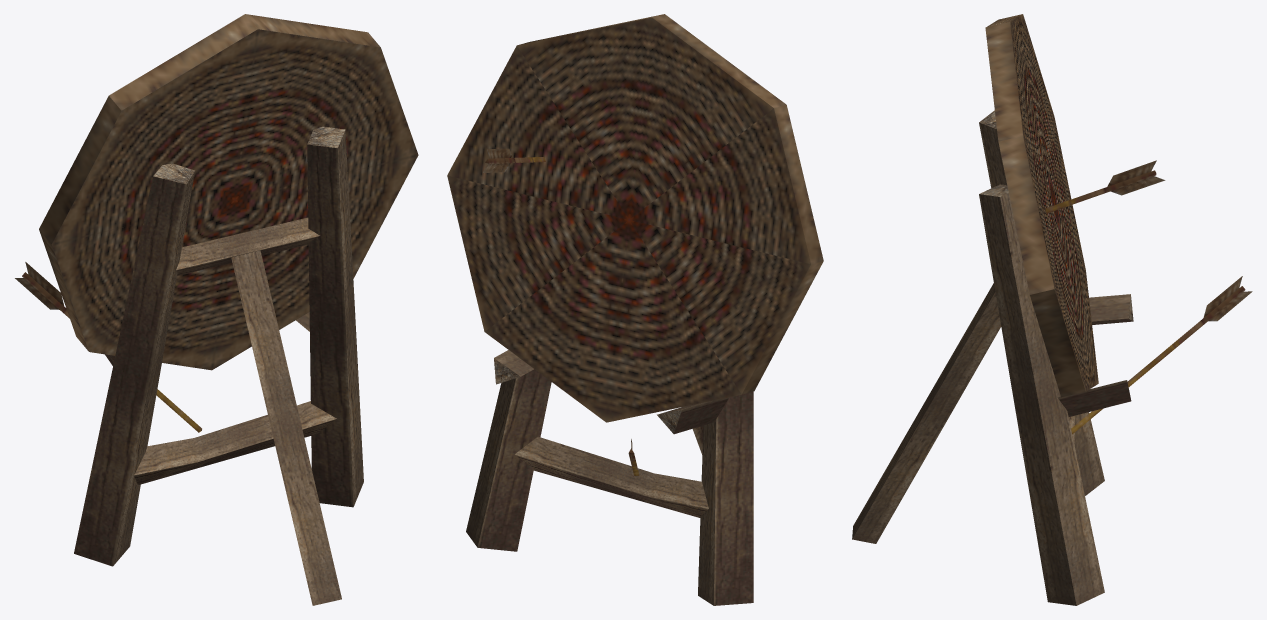
Rendered from SC_tamalagebi_38.FBX.
The picture shows the model from 3 angles, left to right: view 1: azimuth 30°, elevation 25°; view 2: azimuth 150°, elevation 25°; view 3: azimuth 270°, elevation 25°; orthographic projection. The views are drawn at different scales.
Parts seen in each view (by area): view 1: SC_tamalagebi_38; view 2: SC_tamalagebi_38; view 3: SC_tamalagebi_38.
Part boxes in pixels (left/top/right/bottom): SC_tamalagebi_38: left=15, top=14, right=418, bottom=605; SC_tamalagebi_38: left=447, top=14, right=823, bottom=605; SC_tamalagebi_38: left=852, top=14, right=1252, bottom=605.
Size of the model in its own units: 146 by 205 by 143.
